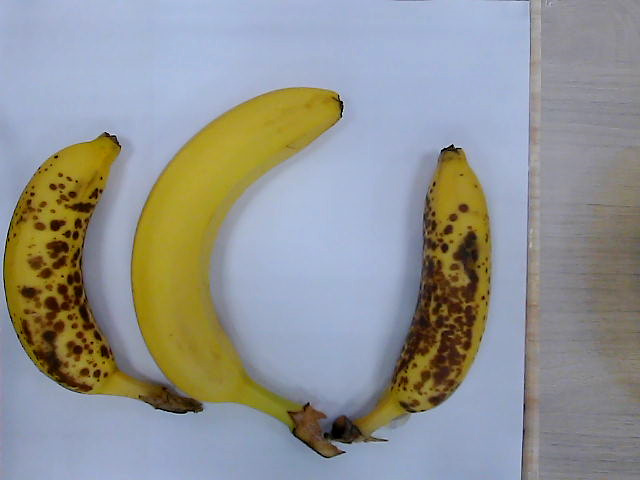fresh_banana: (130, 87, 344, 457)
rotten_banana: (4, 136, 204, 414), (336, 145, 492, 438)
